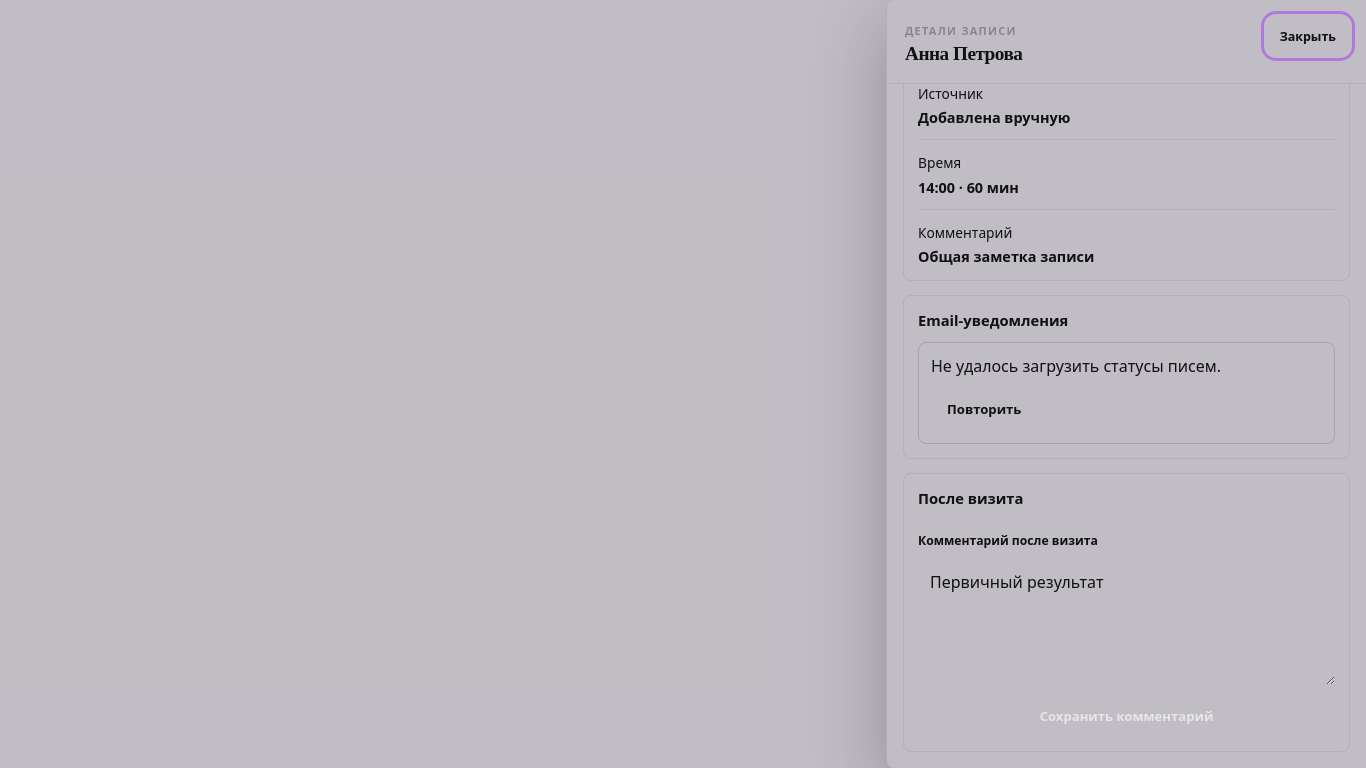
Test: AppointmentDetailDrawer › saves a visit-specific comment without replacing the appointment note
This screenshot has width=1366, height=768.
(page scrolled)
Replace the text in the text box labelled "Комментарий после визита" with "Клиент отметил улучшение.": (1126, 622) [918,559,1335,685]
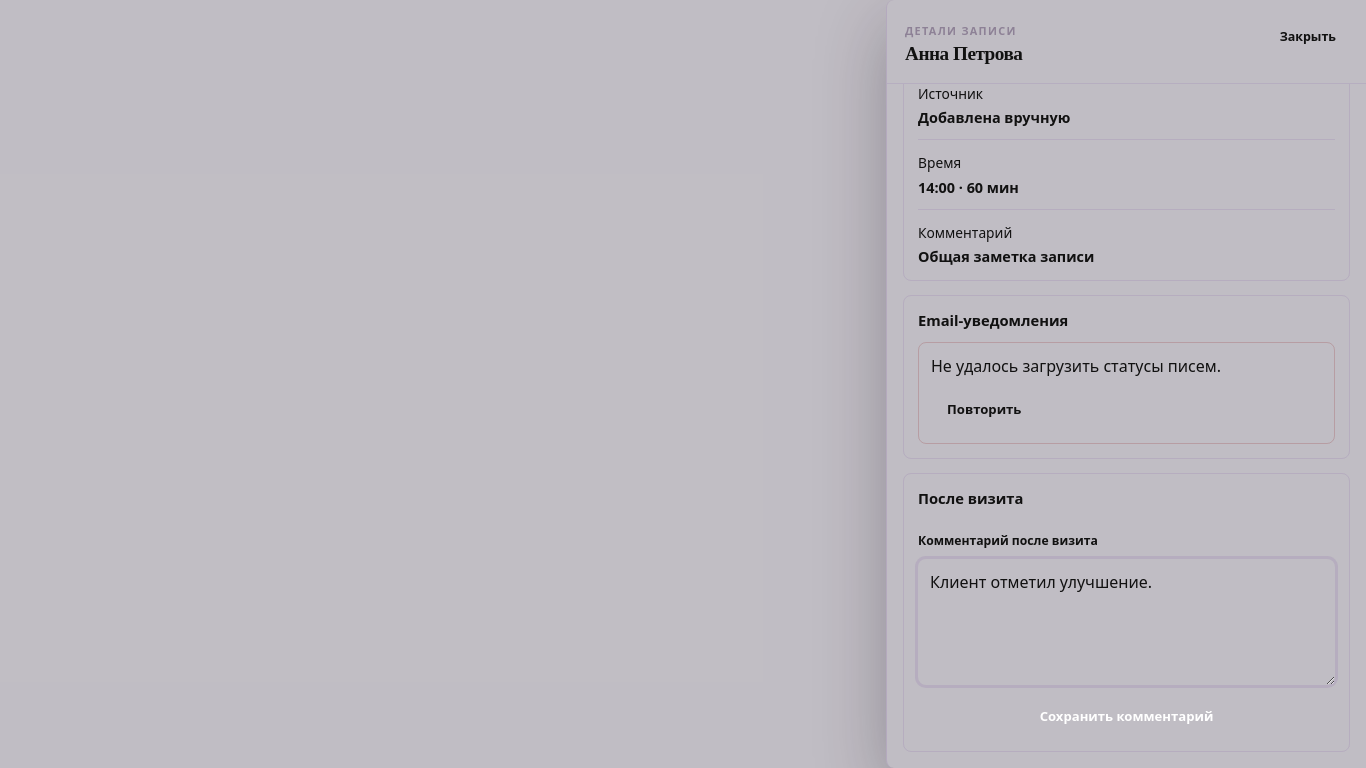
Click the button "Сохранить комментарий": (1126, 716) [918,695,1335,737]
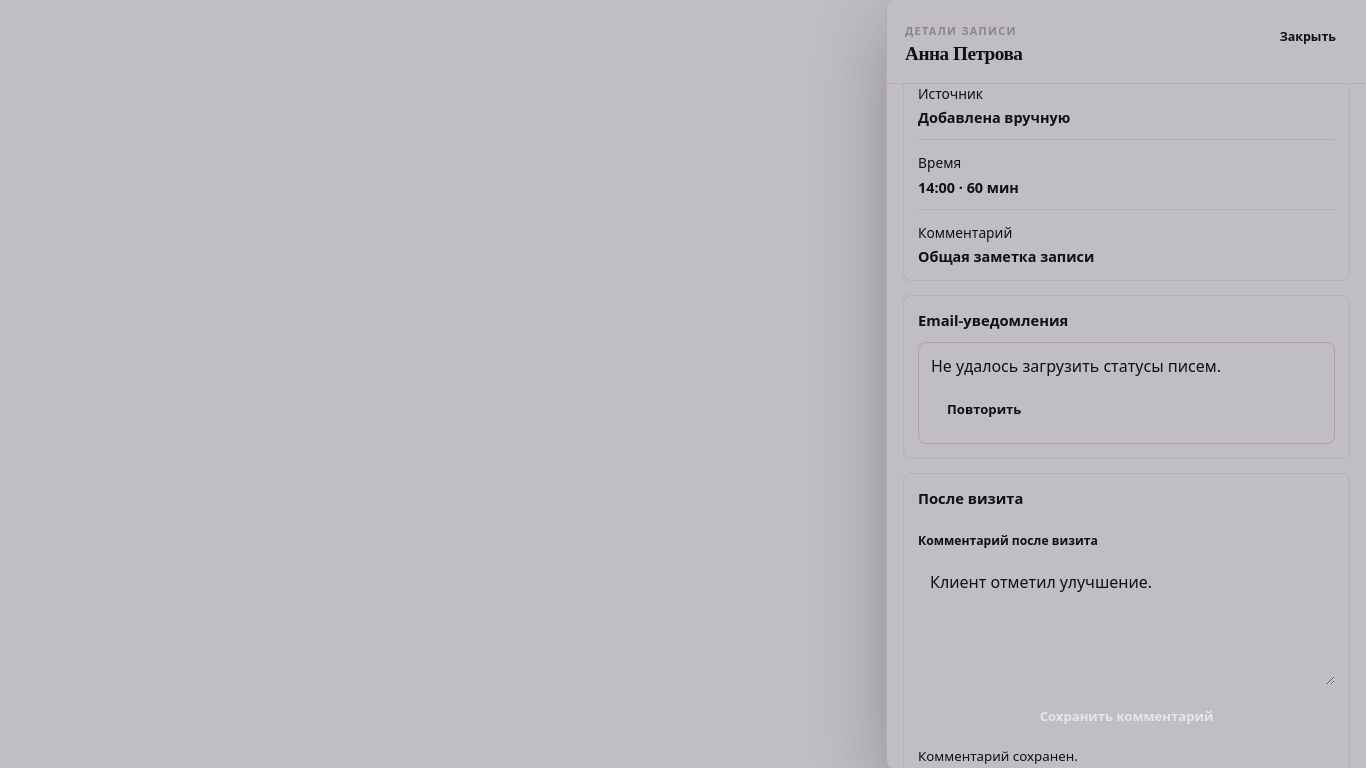
Now the message "Комментарий сохранен." is shown, box [918,747,1078,765]
